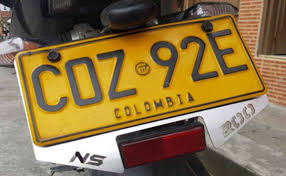number plate: (15, 15, 267, 172), (15, 15, 265, 145)
